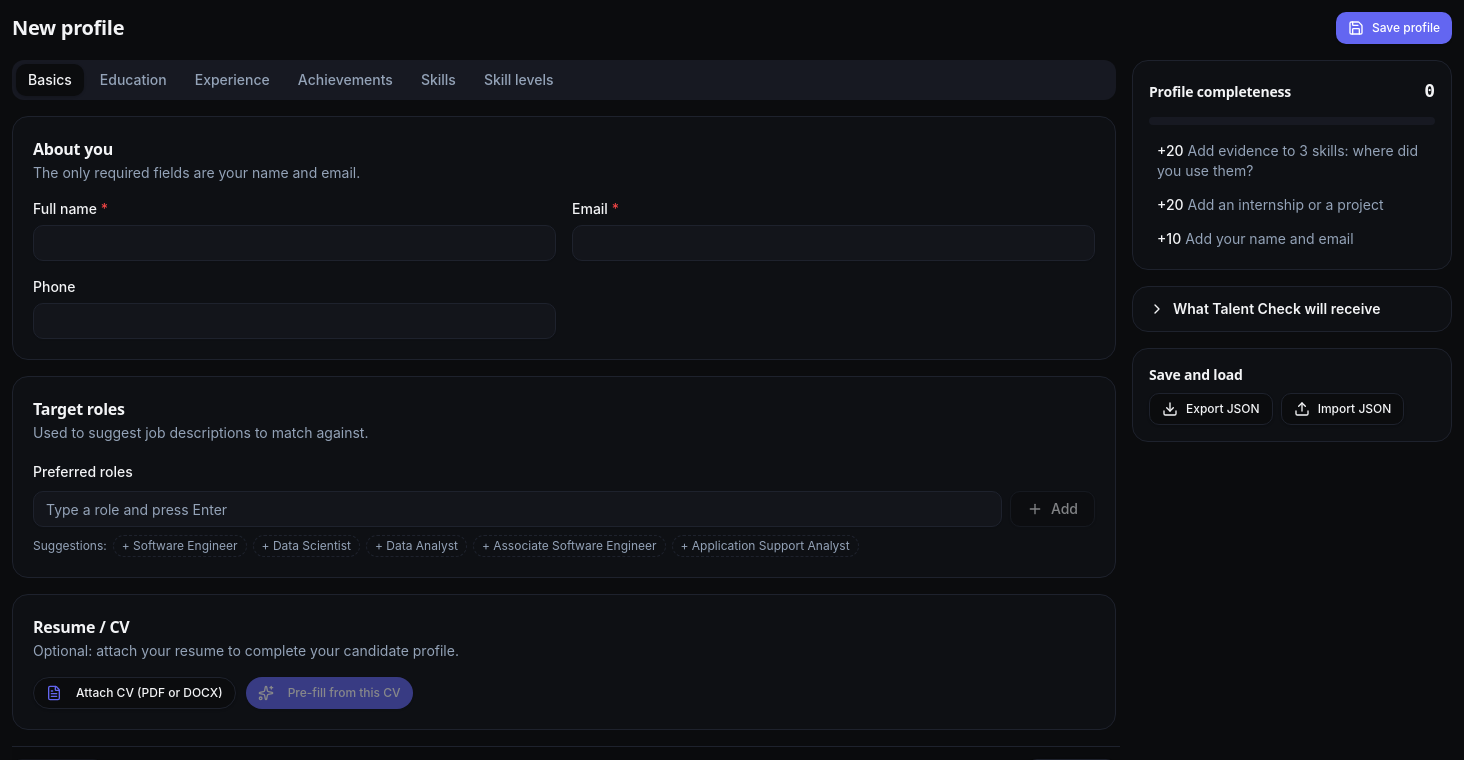
ProfileBuilder: steps › adds a preferred role with Enter, from a suggestion, and removes it
Click the tab "Basics" at (50, 80), box [16,64,84,96]
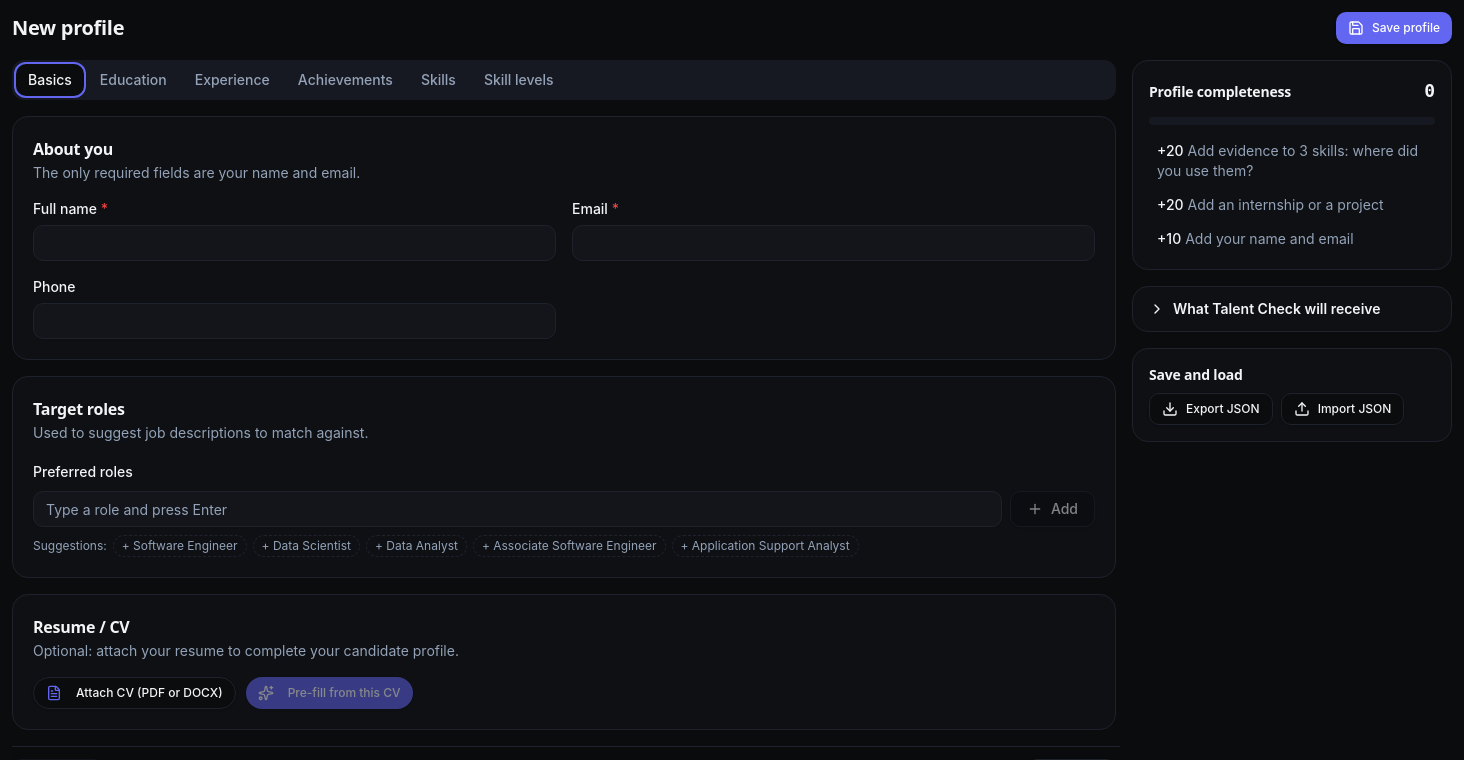
Type "Backend Engineer" into the field labelled "Preferred roles" at (517, 509), box [33,491,1002,527]
Then press Enter
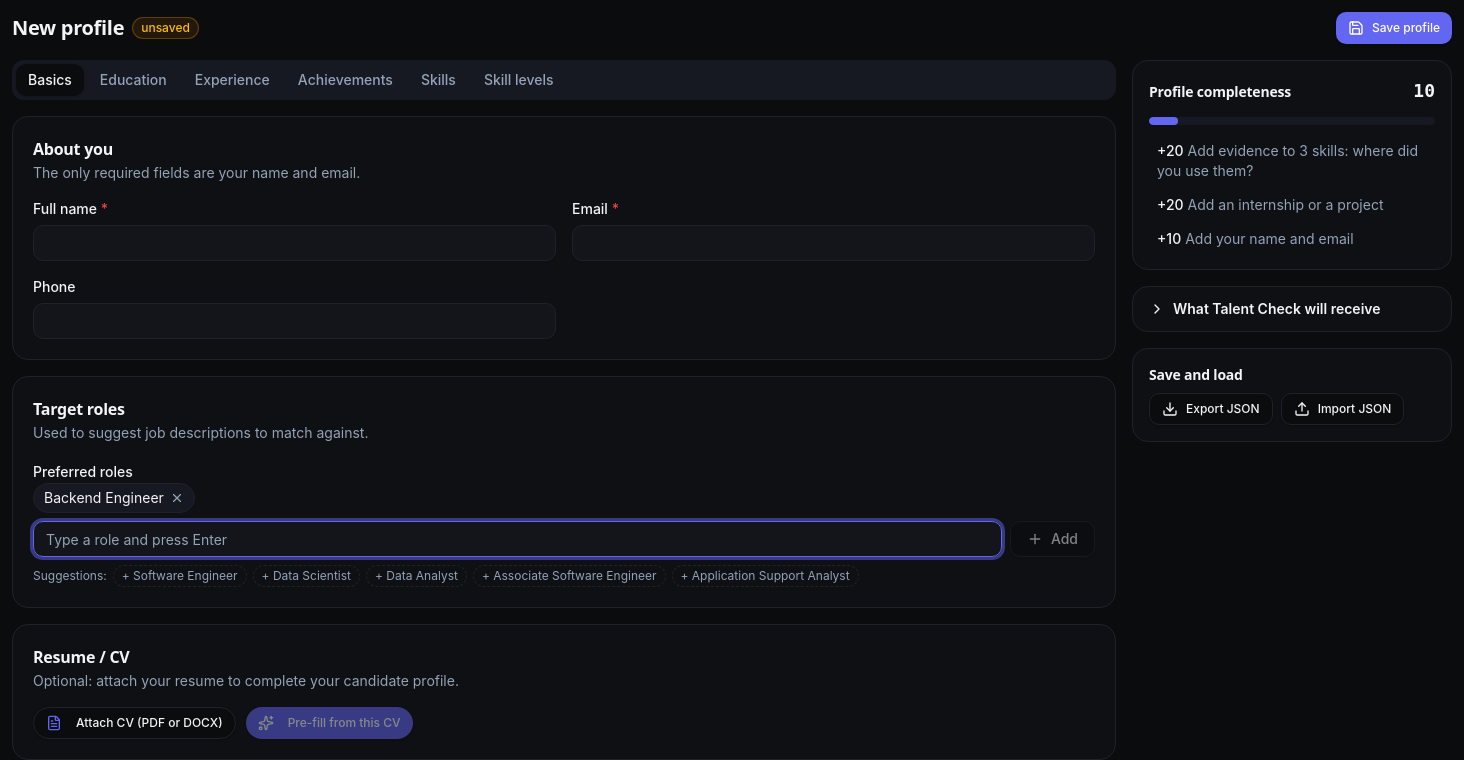
Now the list named "selected roles" reads "Backend Engineer", box [44,489,164,506]
Click the button "+ Data Analyst" at (416, 576), box [366,565,467,587]
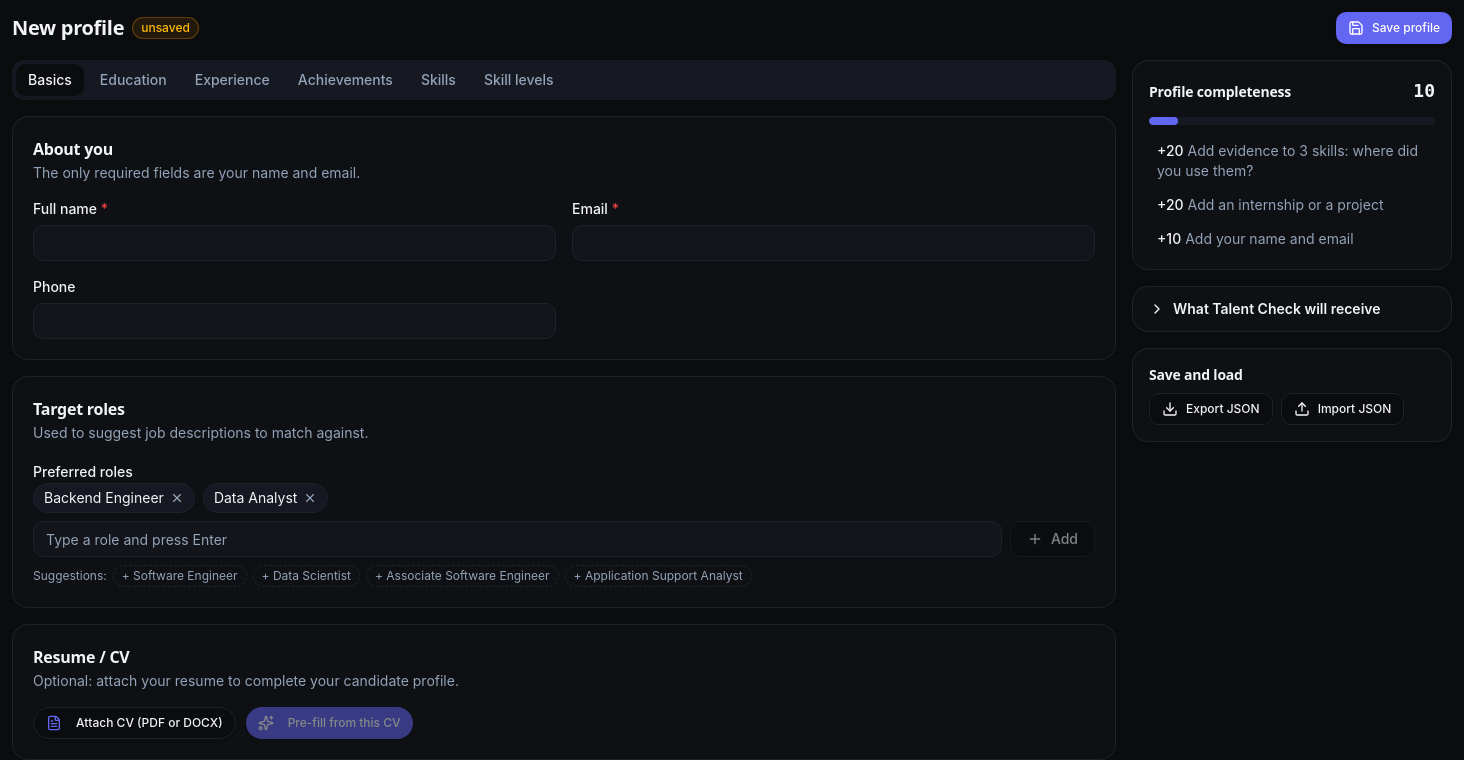
Now the list named "selected roles" shows "Data Analyst", box [214,489,297,506]
Click the button named "Remove Backend Engineer" at (177, 498), box [170,491,184,505]
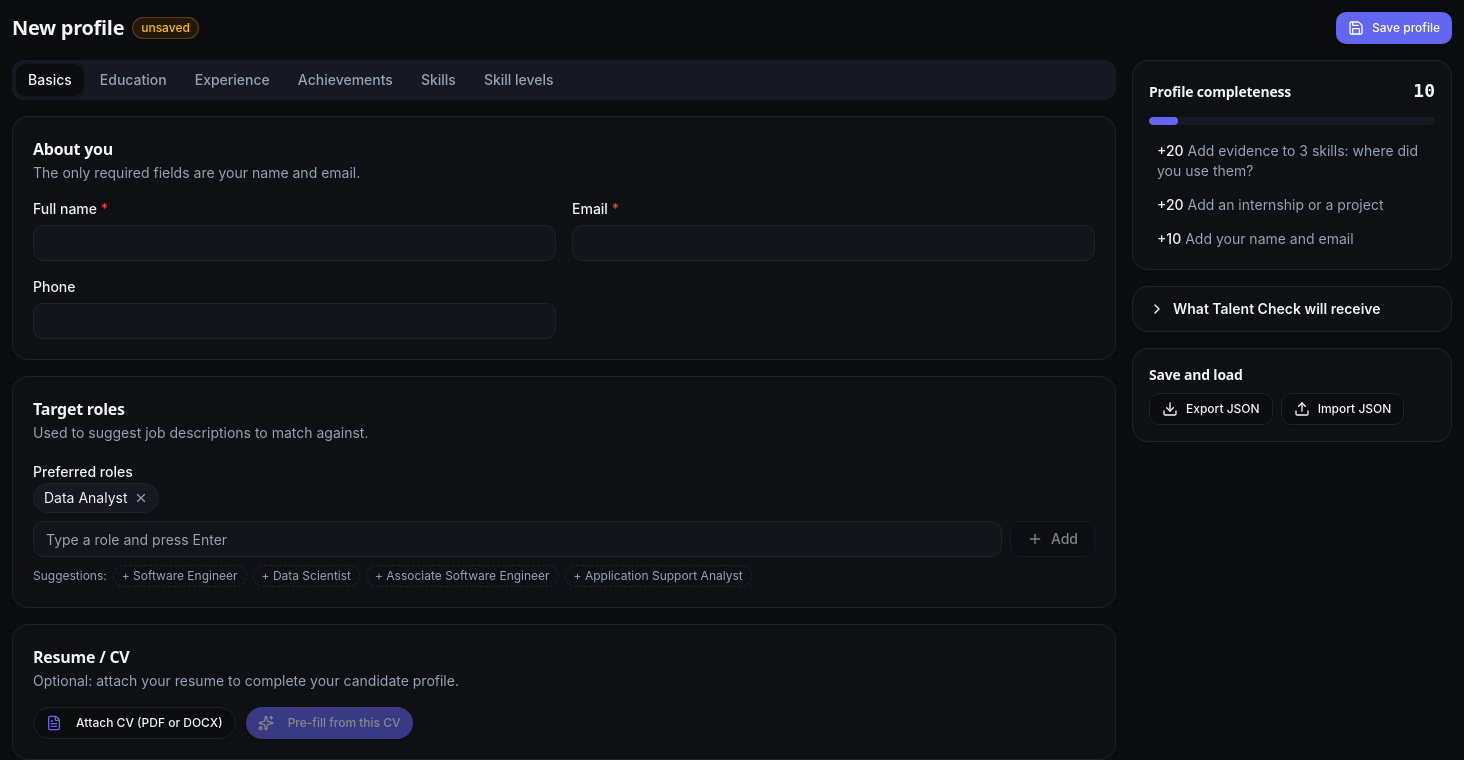
Now the list named "selected roles" no longer shows "Backend Engineer", box [33,483,158,513]
